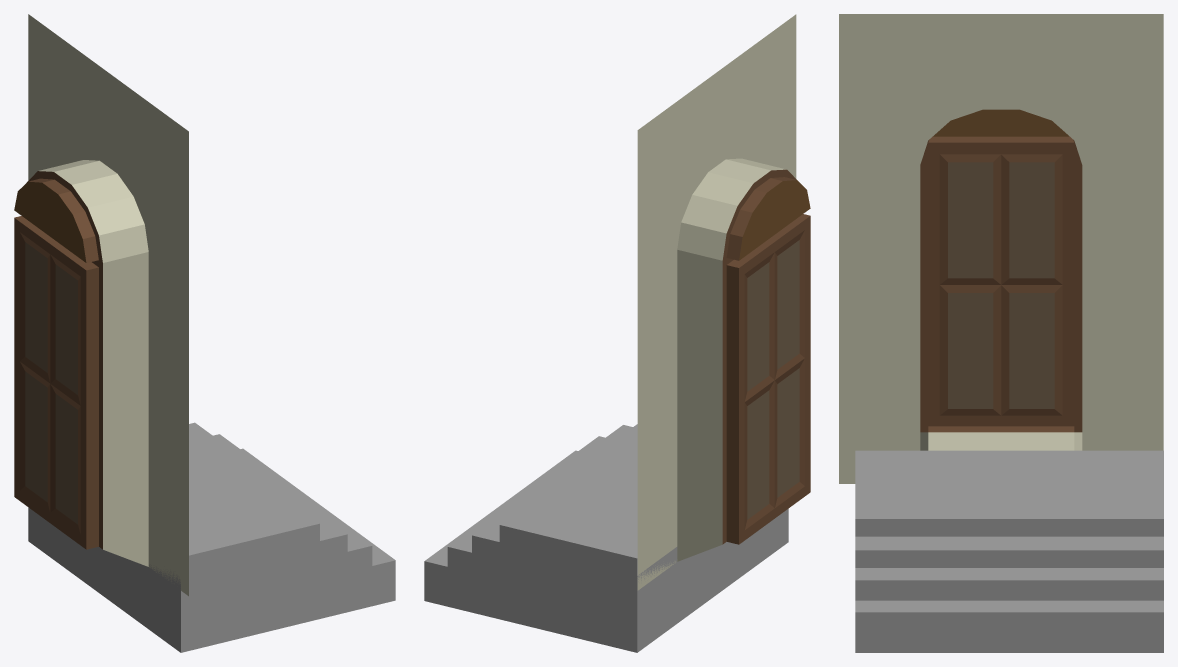
The model's file is door1.fbx.
3 views of the same model, side by side, from view 1: azimuth 30°, elevation 25°; view 2: azimuth 150°, elevation 25°; view 3: azimuth 270°, elevation 25° (orthographic). The views are drawn at different scales.
Visible parts, largest first — view 1: Plane; view 2: Plane; view 3: Plane.
Boxes of the visible parts, <box> form: Plane: <box>14,14,395,652</box>; Plane: <box>424,14,810,652</box>; Plane: <box>839,14,1163,652</box>.
Bounding box in the file's own units: 197 × 363 × 200.
